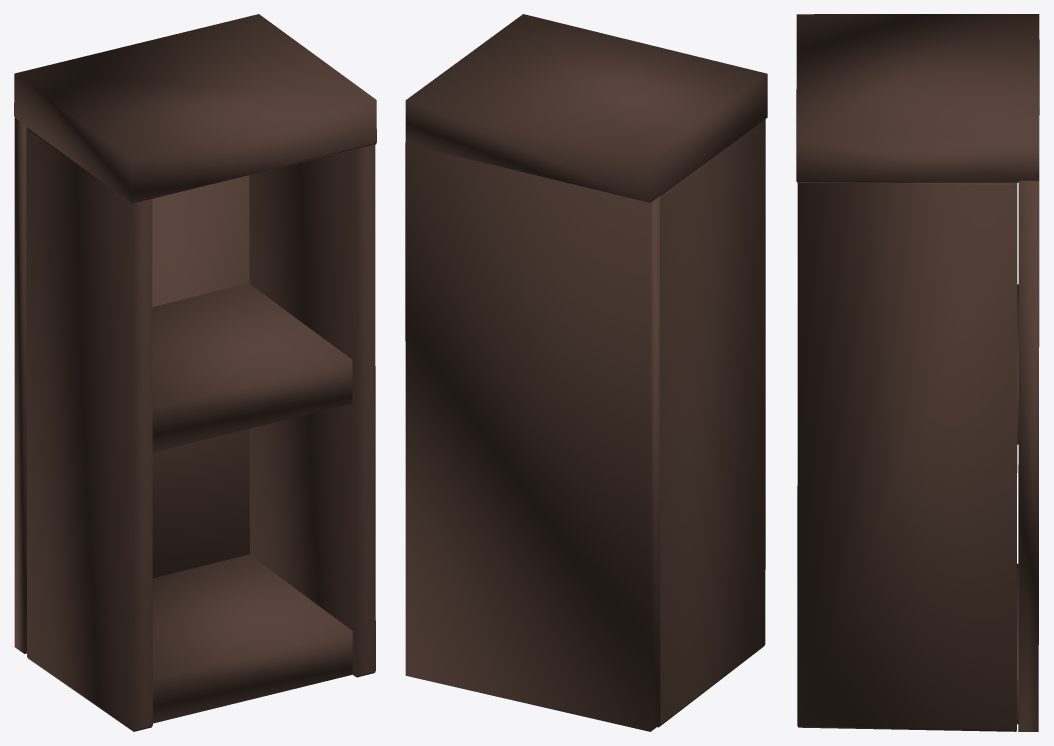
The model's file is Tvern_Stand_FBX.fbx.
3 renders of one model, left to right at view 1: azimuth 30°, elevation 25°; view 2: azimuth 150°, elevation 25°; view 3: azimuth 270°, elevation 25°, orthographic. The views are drawn at different scales.
Parts seen in each view (by area): view 1: stool_objwip:stool_objwip:StandingCuboard; view 2: stool_objwip:stool_objwip:StandingCuboard; view 3: stool_objwip:stool_objwip:StandingCuboard.
Boxes of the visible parts, left/top/right/bottom form: stool_objwip:stool_objwip:StandingCuboard: left=14, top=14, right=376, bottom=731; stool_objwip:stool_objwip:StandingCuboard: left=405, top=14, right=767, bottom=731; stool_objwip:stool_objwip:StandingCuboard: left=796, top=14, right=1039, bottom=731.
Bounding box in the file's own units: 63.48 × 143 × 52.89.
